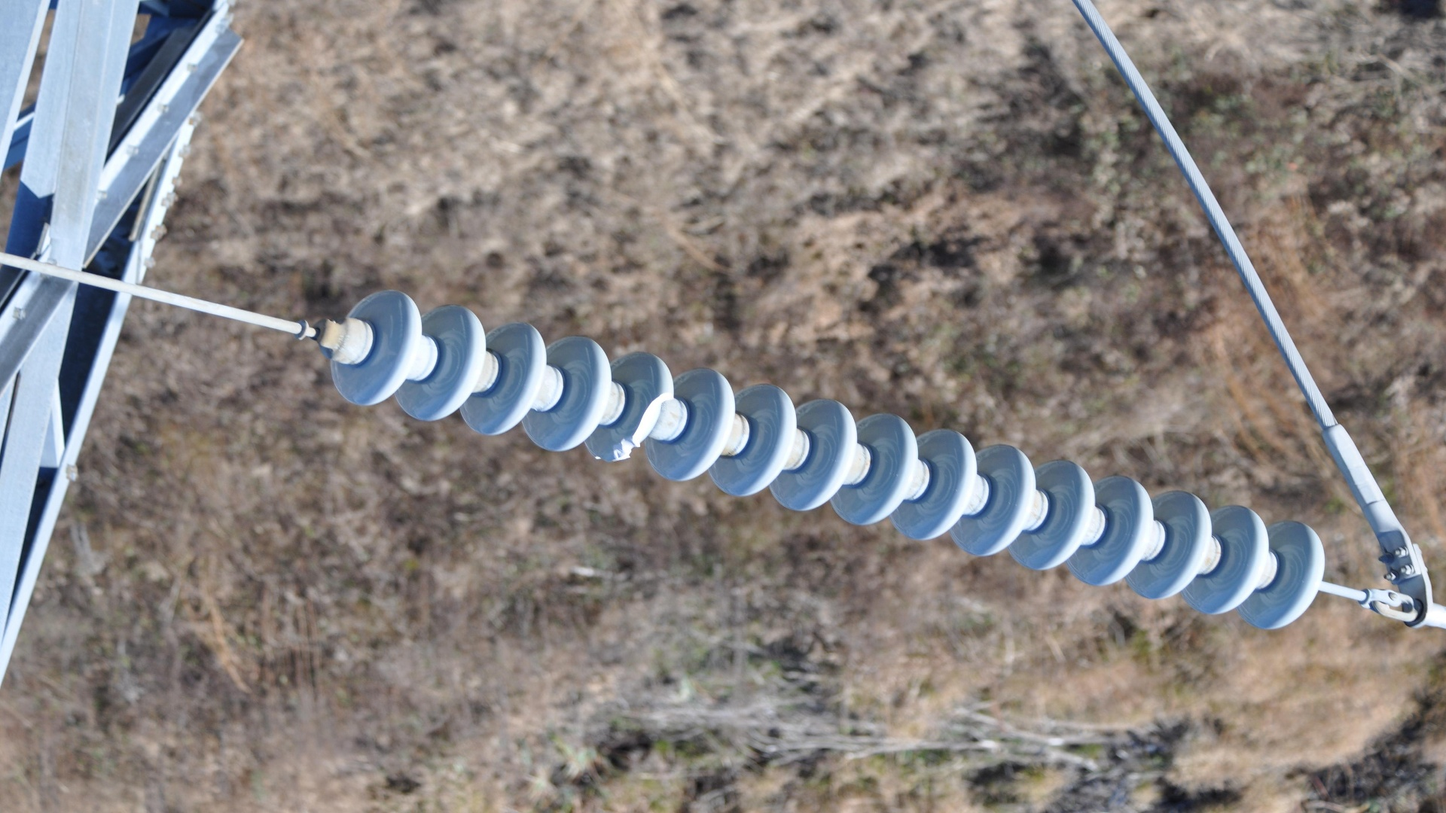insulator: (325, 286, 1331, 636)
insulator_breakage: (591, 388, 676, 464)
